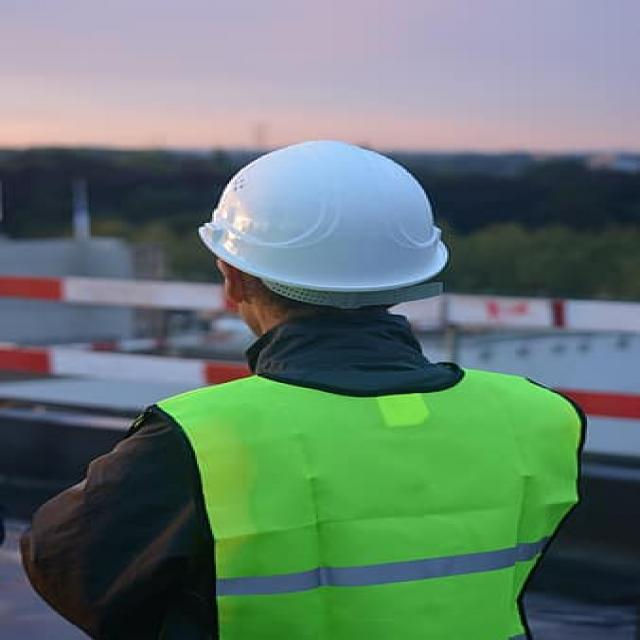Reflective-Jacket: (130, 351, 592, 640)
Safety-Helmet: (192, 134, 454, 304)
